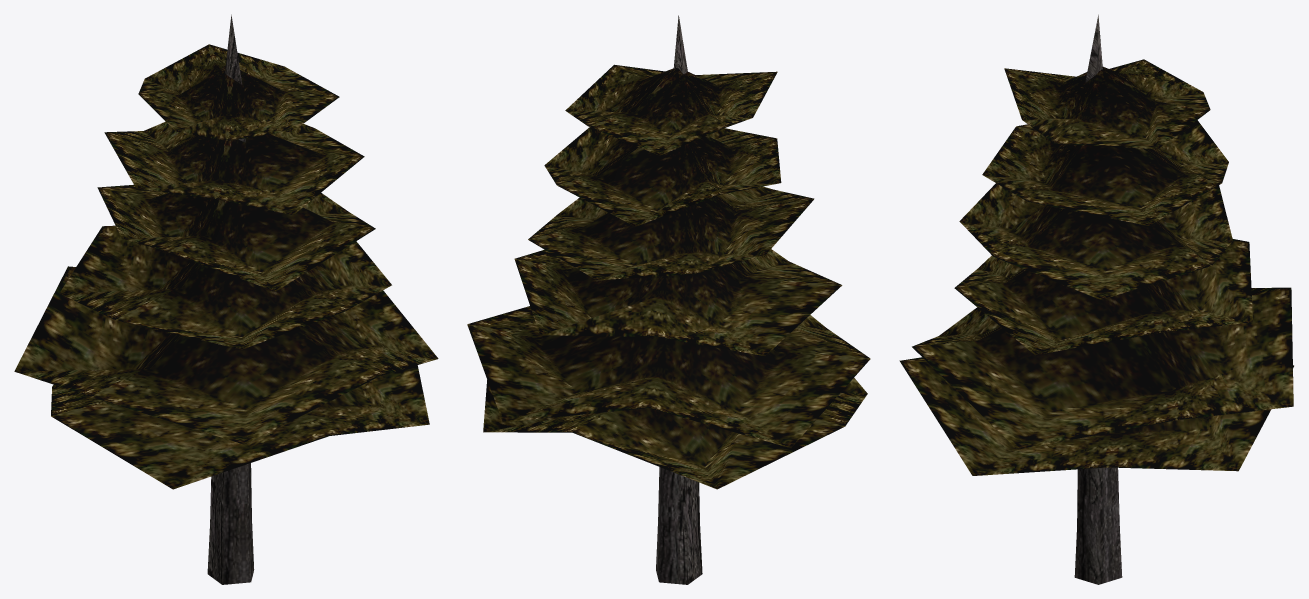
File: Tree11.obj
The picture shows the model from 3 angles, left to right: view 1: azimuth 30°, elevation 25°; view 2: azimuth 150°, elevation 25°; view 3: azimuth 270°, elevation 25°; orthographic projection.
Visible parts, largest first — view 1: Mesh_0, Mesh_1; view 2: Mesh_0, Mesh_1; view 3: Mesh_0, Mesh_1.
Part boxes in pixels (x1=…): Mesh_0: x1=14, y1=44, x2=438, y2=489; Mesh_1: x1=207, y1=14, x2=254, y2=584; Mesh_0: x1=467, y1=64, x2=870, y2=489; Mesh_1: x1=656, y1=15, x2=702, y2=584; Mesh_0: x1=899, y1=59, x2=1293, y2=475; Mesh_1: x1=1074, y1=14, x2=1122, y2=584.
Size of the model in its own units: 3.73 by 5.61 by 3.58.
2 materials, 2 textured.
